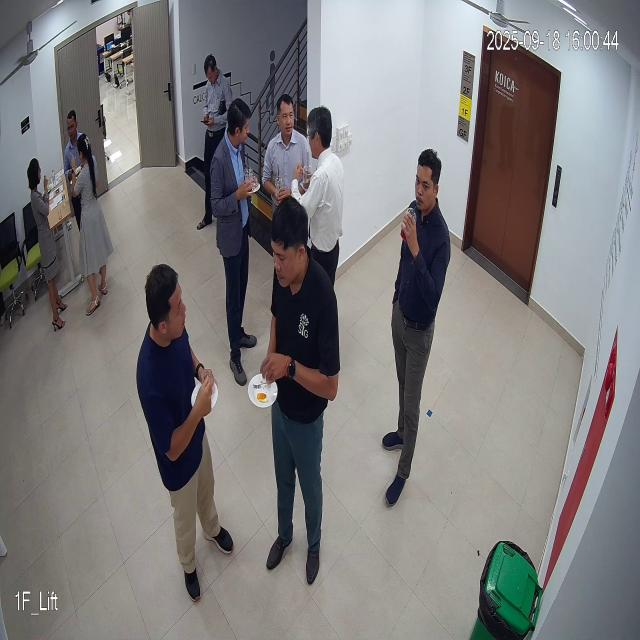face: (412, 145, 445, 216)
